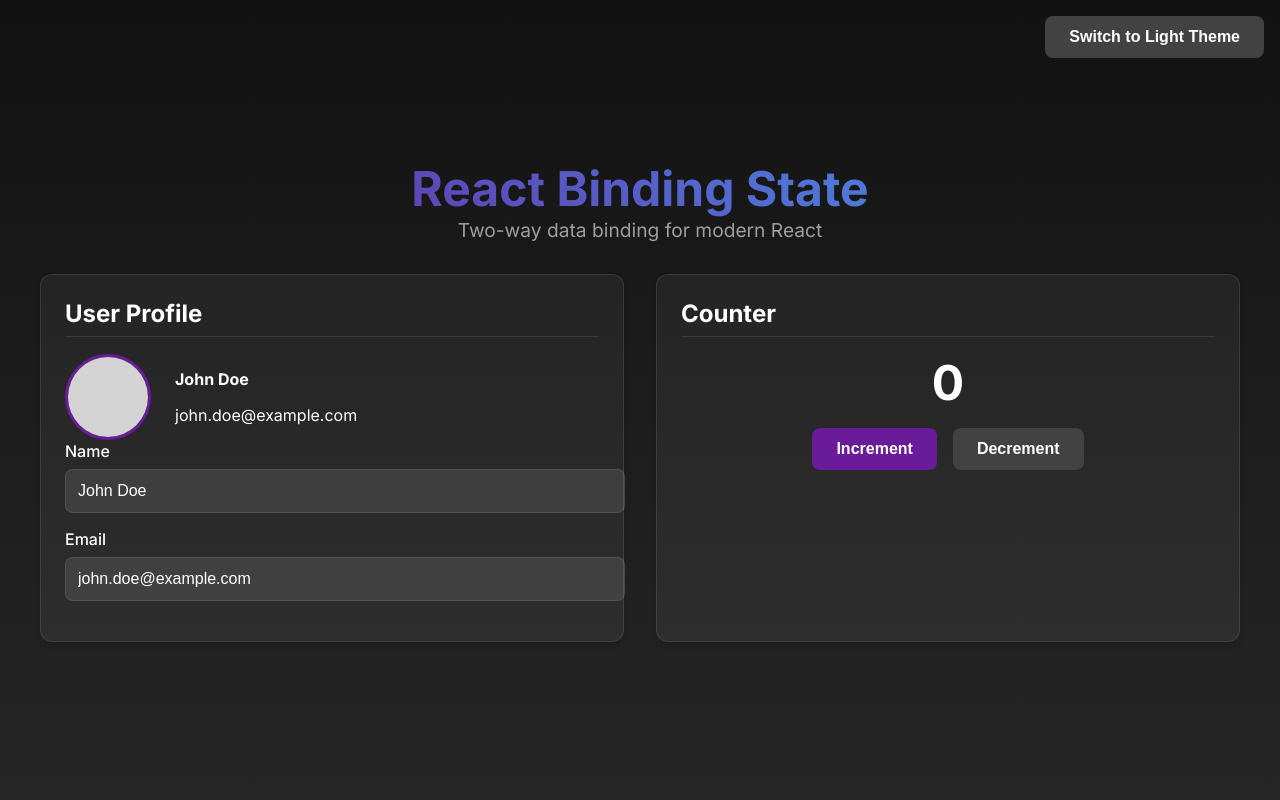
Test: App › increments and decrements the counter
Expected: the text "0" is shown, left=932, top=352, right=964, bottom=412
Click the button "Increment" at coordinates (875, 448), box left=812, top=428, right=937, bottom=470
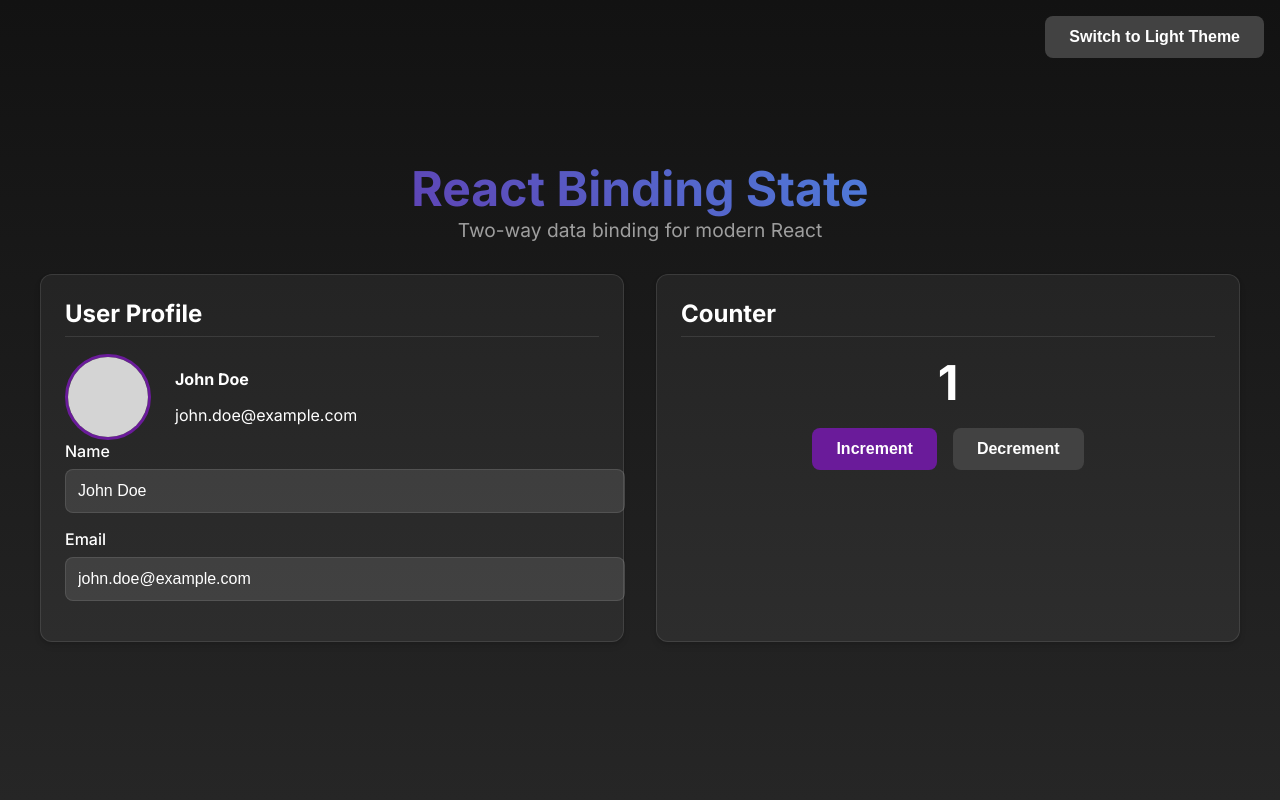
Result: the text "1" is shown at left=938, top=352, right=958, bottom=412
Click the button "Decrement" at coordinates (1018, 448), box left=953, top=428, right=1084, bottom=470
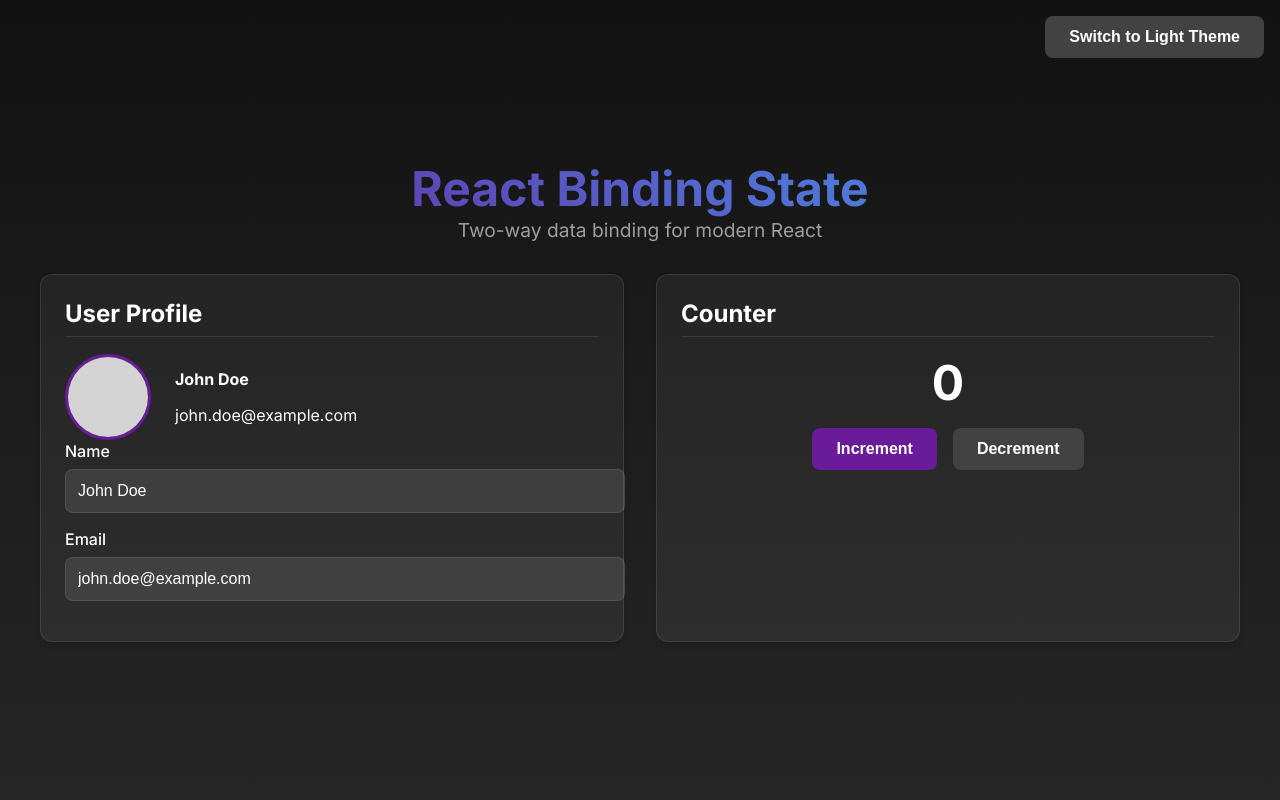
Result: the text "0" is shown at left=932, top=352, right=964, bottom=412
